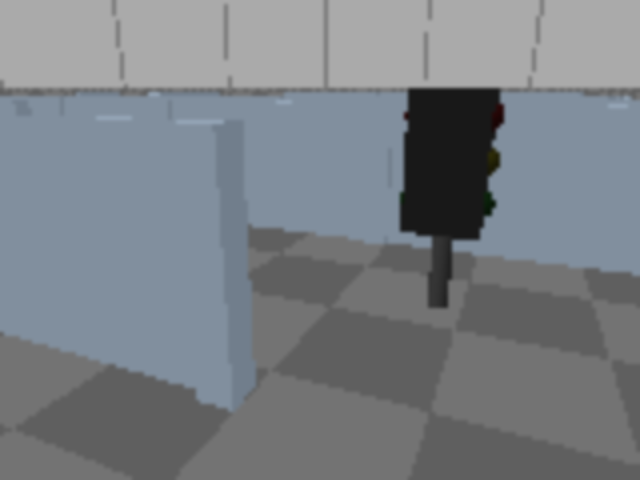traffic_light: (396, 74, 501, 327)
